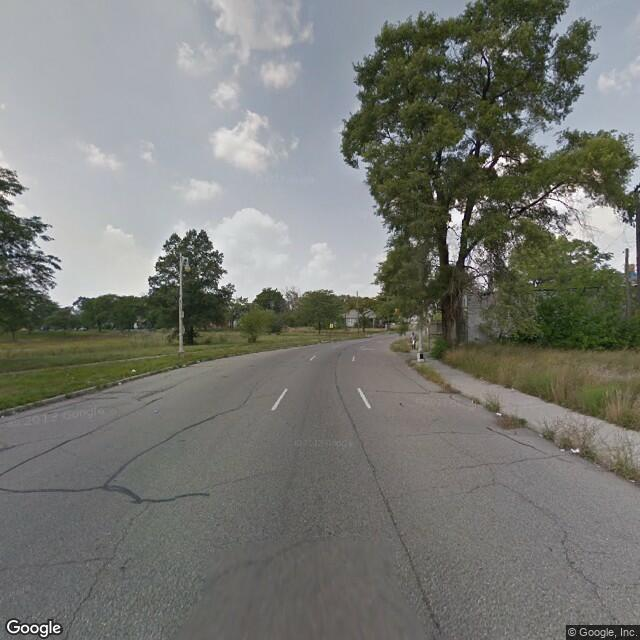litter: (568, 446, 583, 456), (113, 379, 126, 388), (493, 409, 503, 419), (558, 446, 567, 456), (128, 366, 138, 373)
